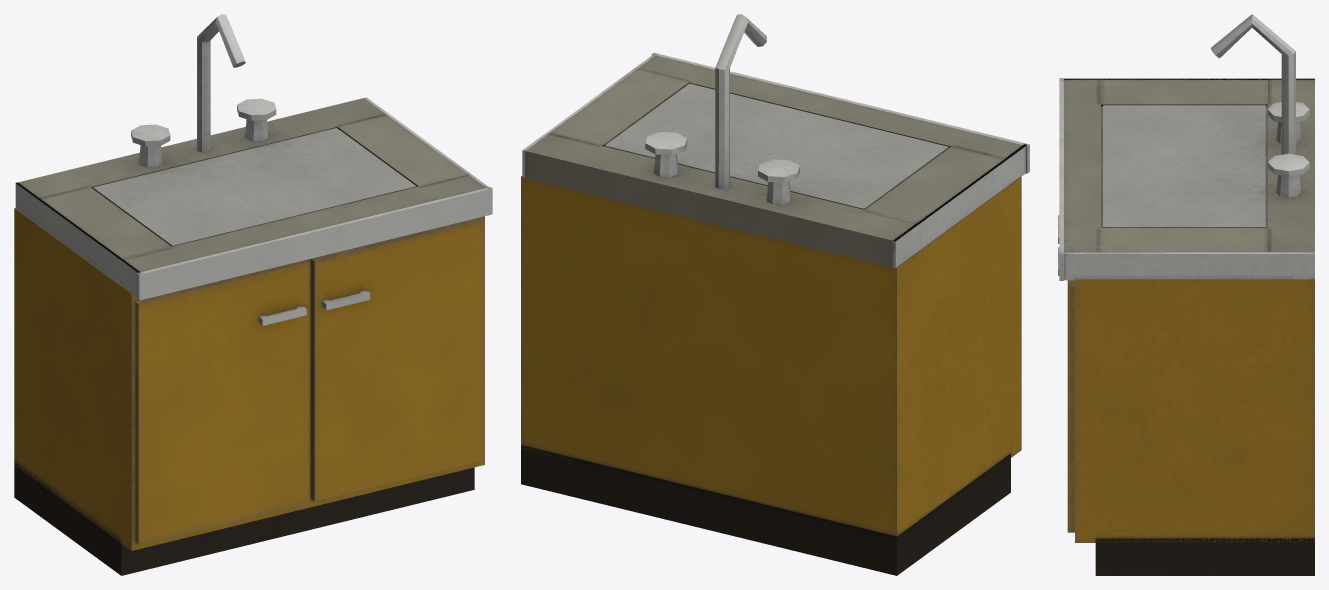
The model's file is H_KitchenSink.fbx.
3 views of the same model, side by side, from view 1: azimuth 30°, elevation 25°; view 2: azimuth 150°, elevation 25°; view 3: azimuth 270°, elevation 25° (orthographic). The views are drawn at different scales.
Visible parts, largest first — view 1: H_KitchenSink; view 2: H_KitchenSink; view 3: H_KitchenSink.
Boxes of the visible parts, left/top/right/bottom form: H_KitchenSink: left=14, top=14, right=492, bottom=575; H_KitchenSink: left=521, top=14, right=1029, bottom=575; H_KitchenSink: left=1058, top=14, right=1314, bottom=575.
Size of the model in its own units: 400 by 501 by 246.
1 material, 1 textured.
